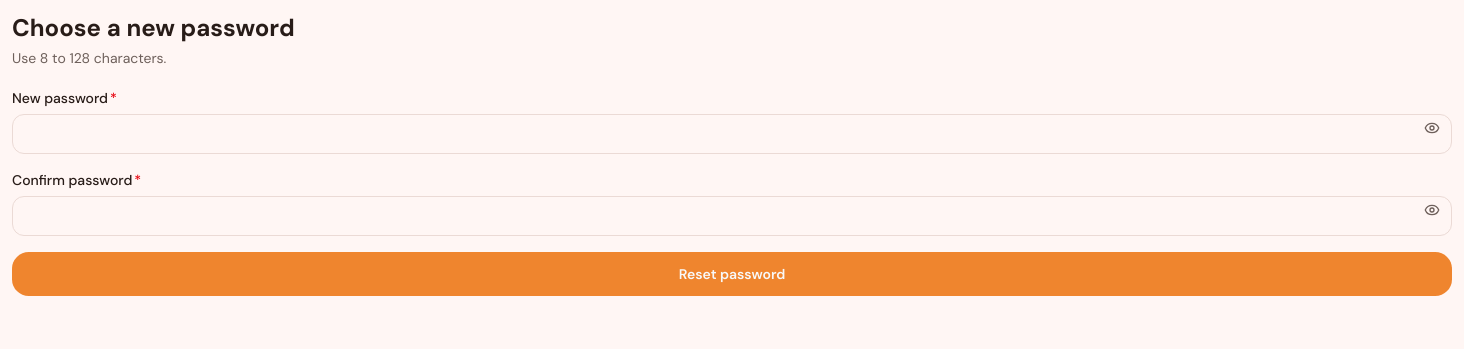
Test case: ResetPasswordForm › maps invalid_or_expired_token to a readable message
In the password field labelled "New password*": (732, 134) [12,114,1452,154], type "longenough1"
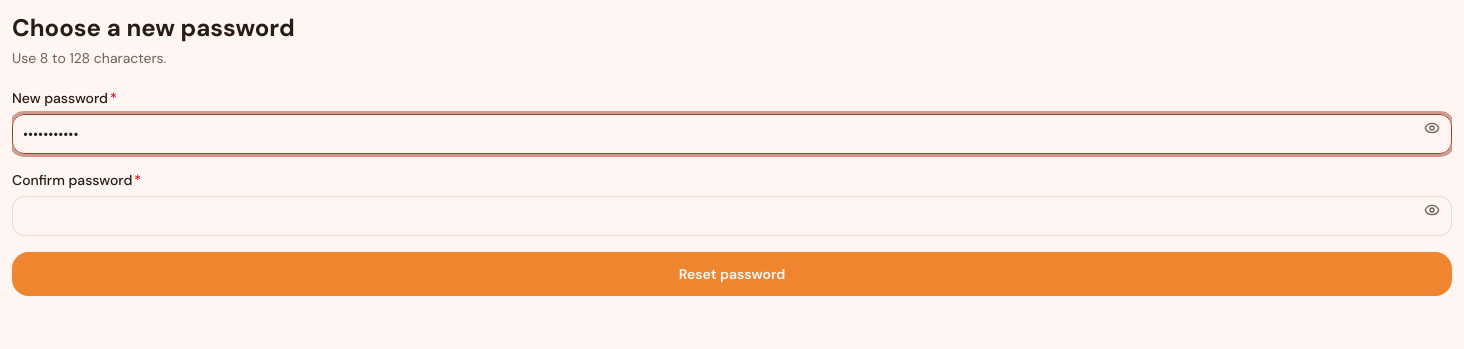
In the password field labelled "Confirm password*": (732, 216) [12,196,1452,236], type "longenough1"
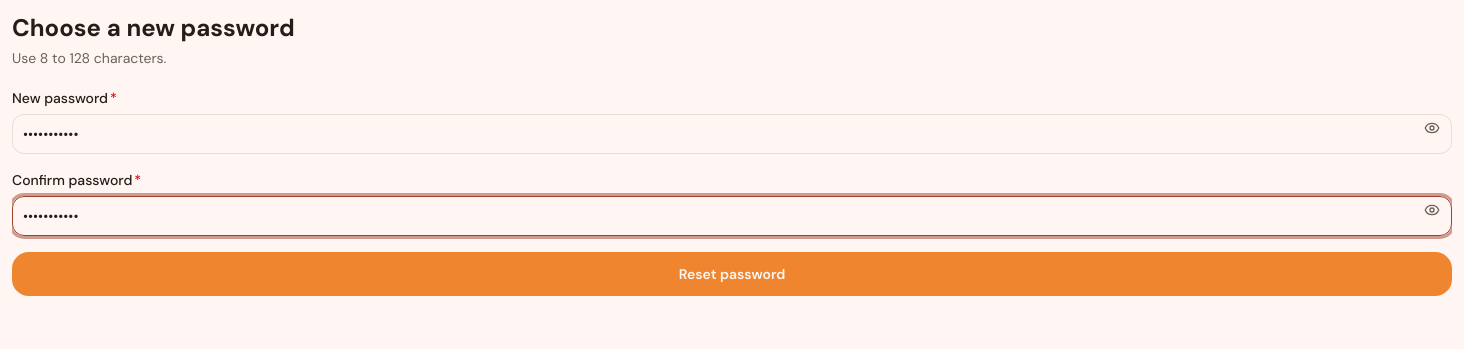
Click the button "Reset password": (732, 274) [12,252,1452,296]
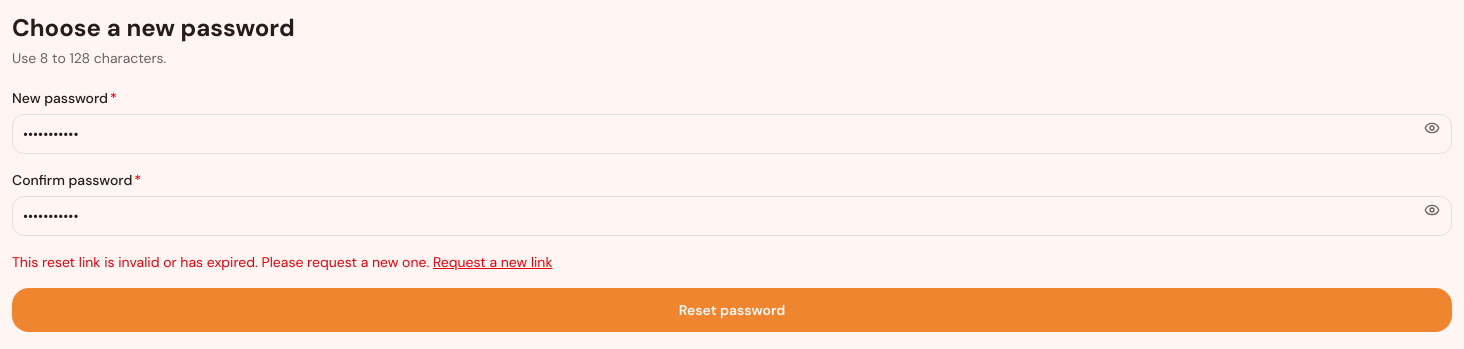
expect the message shows "invalid or has expired": met, box [12,253,429,271]
